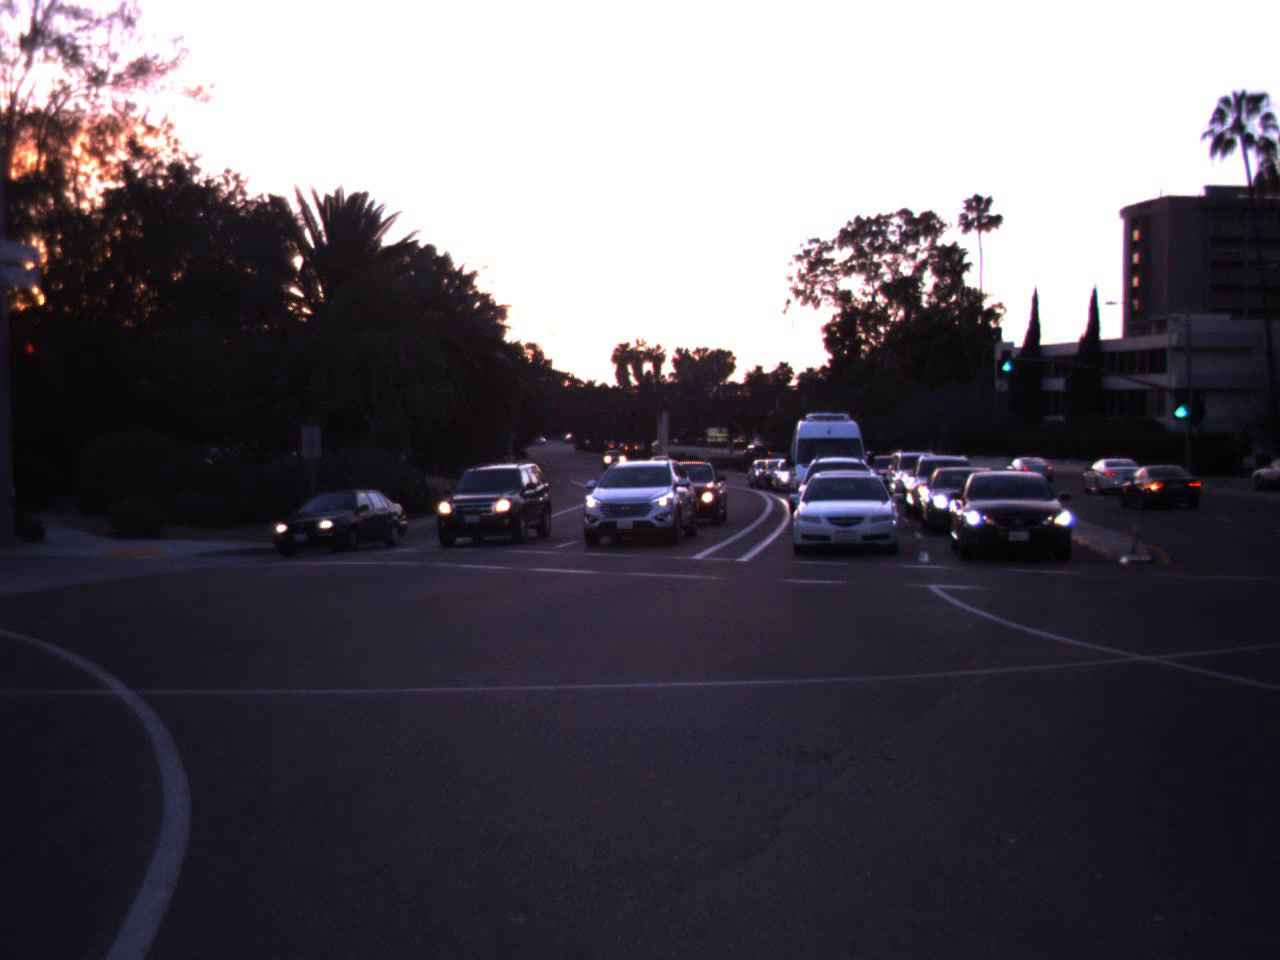go: (989, 327, 1022, 377), (1170, 376, 1188, 421)
